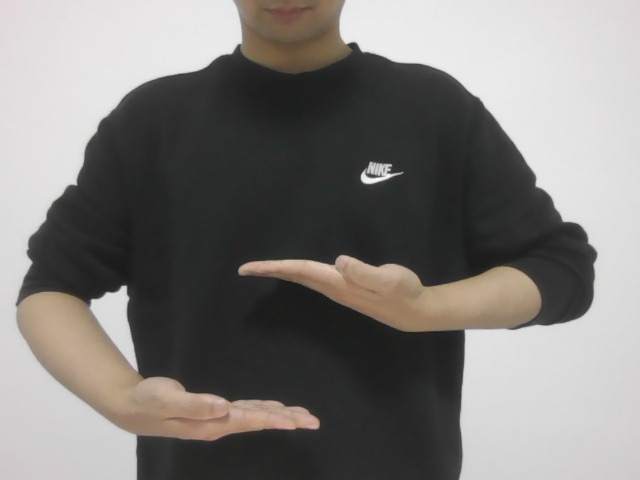happy: (132, 247, 435, 445)
